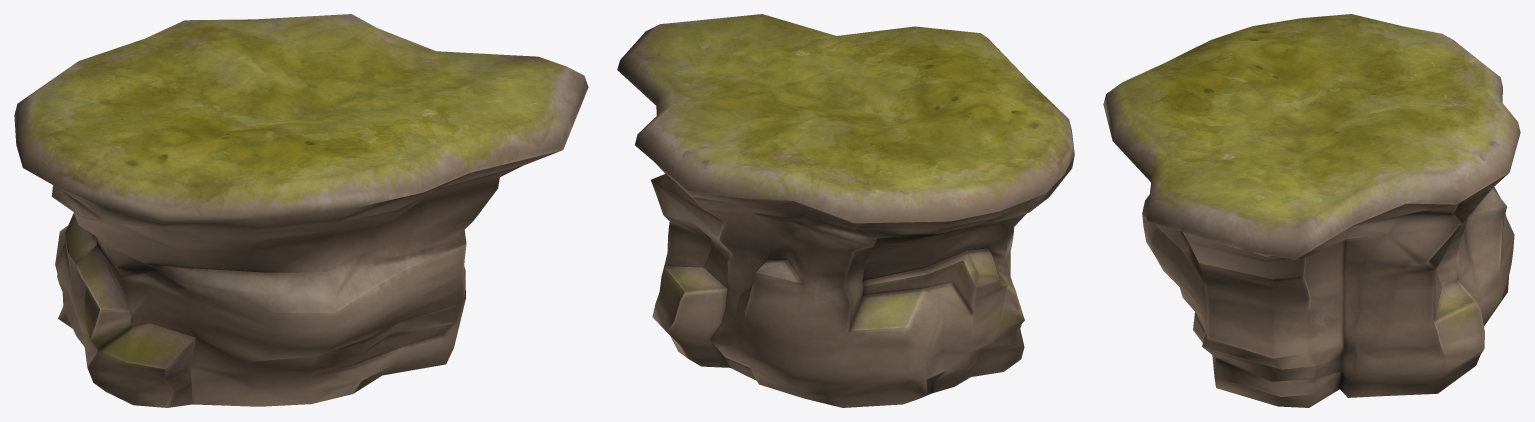
Rendered from rock_01.FBX.
The picture shows the model from 3 angles, left to right: view 1: azimuth 30°, elevation 25°; view 2: azimuth 150°, elevation 25°; view 3: azimuth 270°, elevation 25°; orthographic projection. The views are drawn at different scales.
Visible parts, largest first — view 1: rock_01; view 2: rock_01; view 3: rock_01.
Boxes of the visible parts, box(x1,y1,x2,y2) form: rock_01: box(14, 14, 588, 407); rock_01: box(617, 14, 1074, 407); rock_01: box(1103, 14, 1520, 407).
Bounding box in the file's own units: 1425 × 712 × 1122.
Materials: 1 (1 with a texture image).
